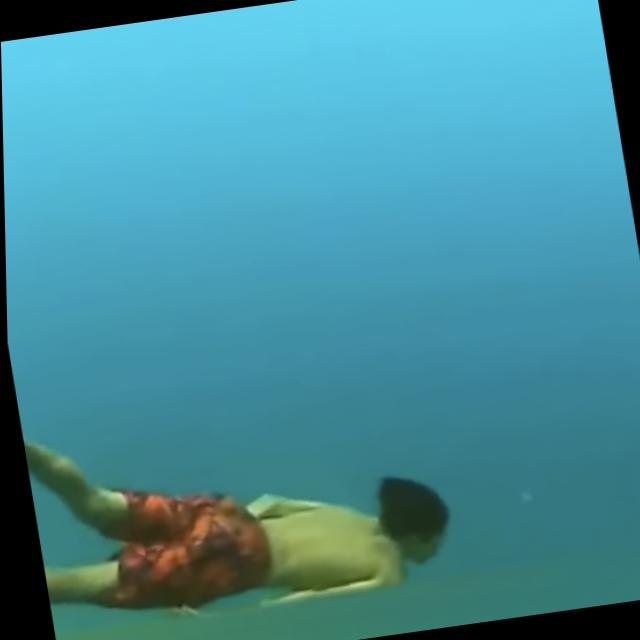human: (13, 333, 470, 640)
